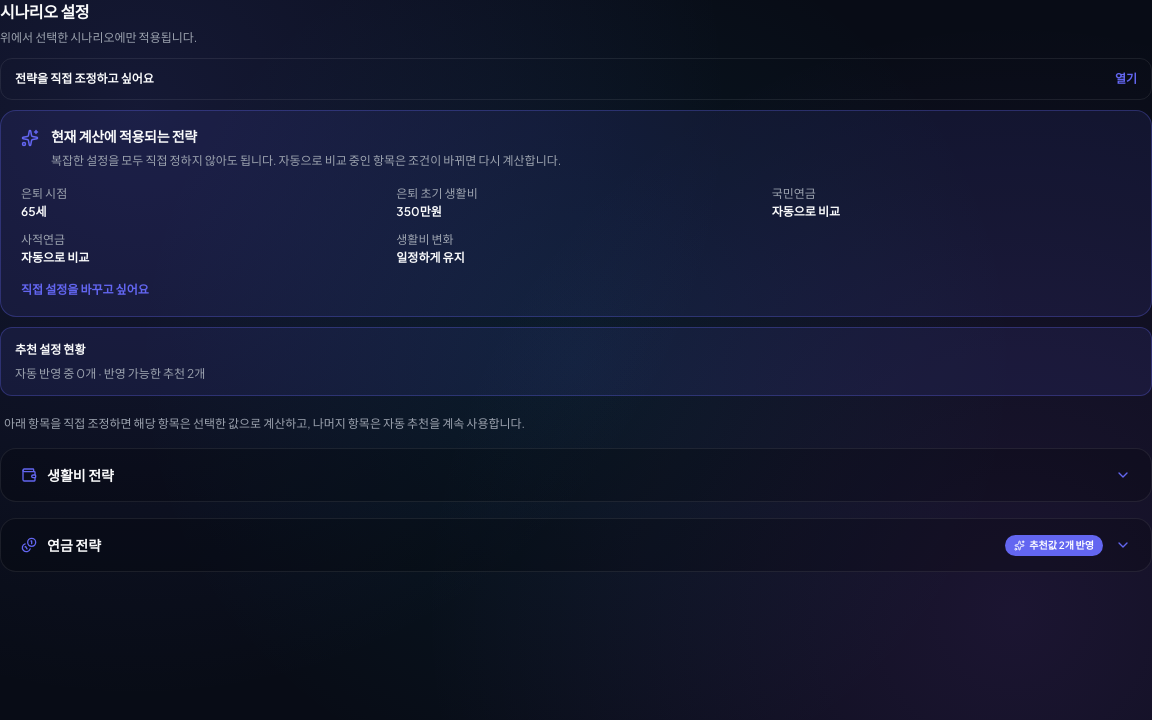
Test: StrategySettingsPanel › 추천값 반영 전 변경 내용을 보여주고 취소하면 설정을 바꾸지 않는다
Click the button with aria-label "연금 전략 추천값 반영": {"x": 1054, "y": 545} x1=1005 y1=534 x2=1103 y2=556
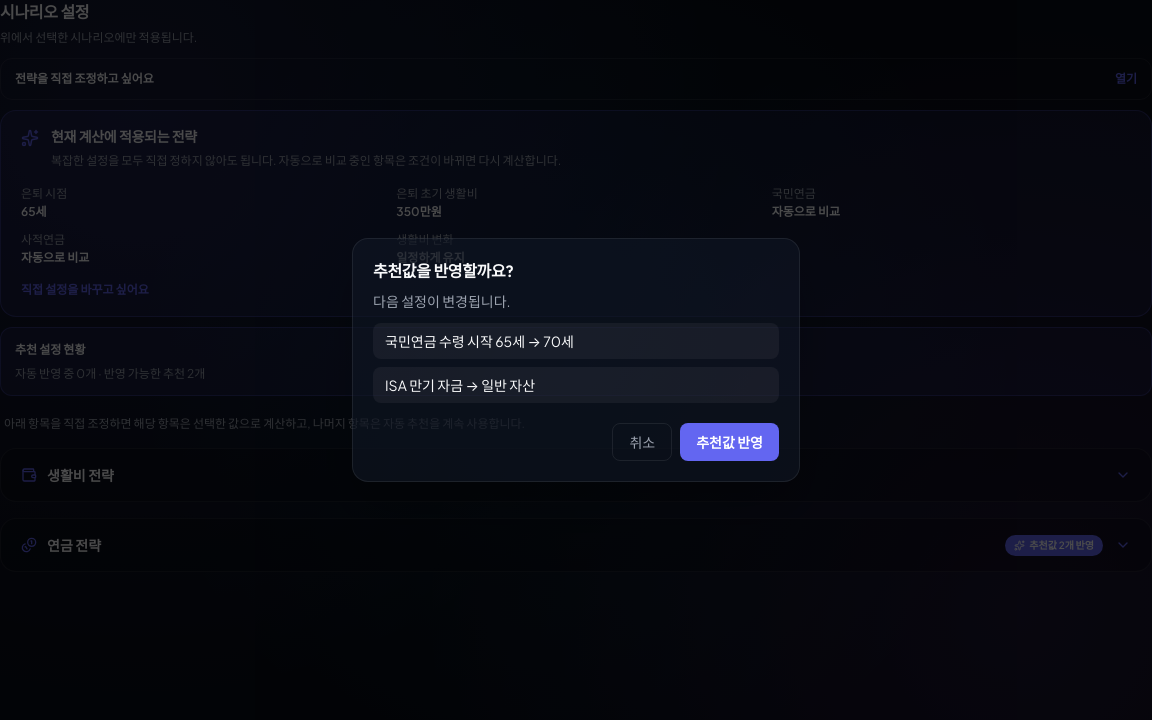
Expected: the list item "국민연금 수령 시작 65세 → 70세" is shown, x1=373 y1=323 x2=779 y2=359
Click the button "취소": {"x": 642, "y": 442} x1=612 y1=423 x2=672 y2=461
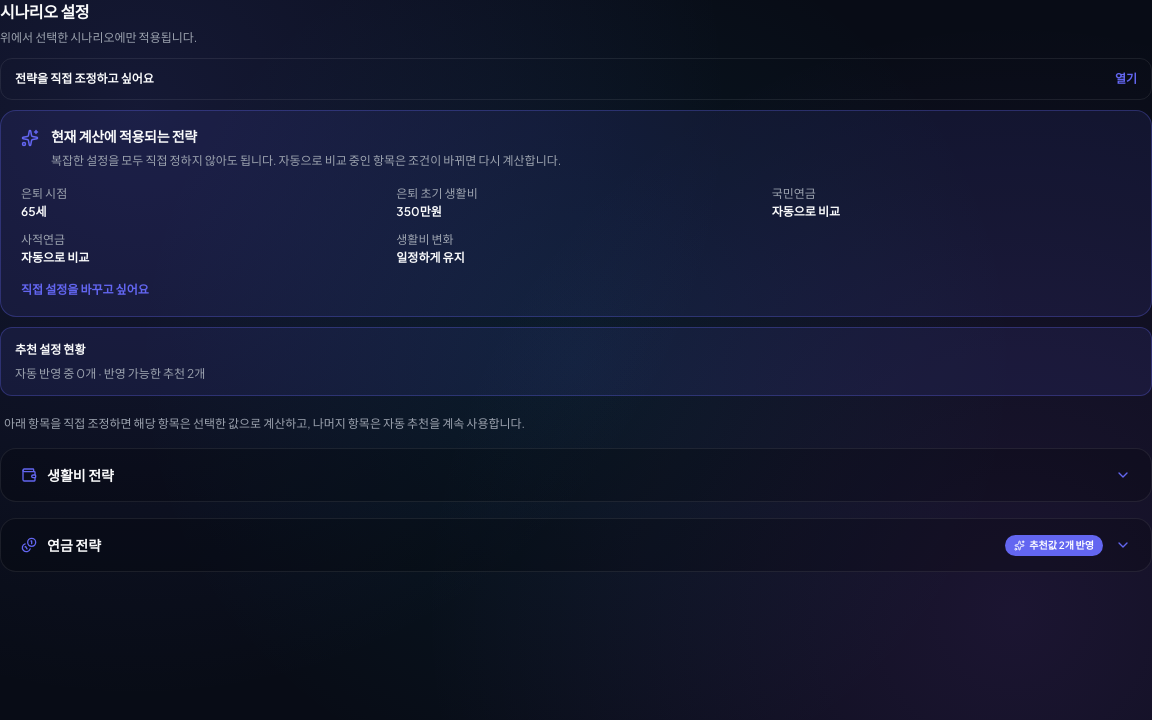
Expected: the dialog is gone
